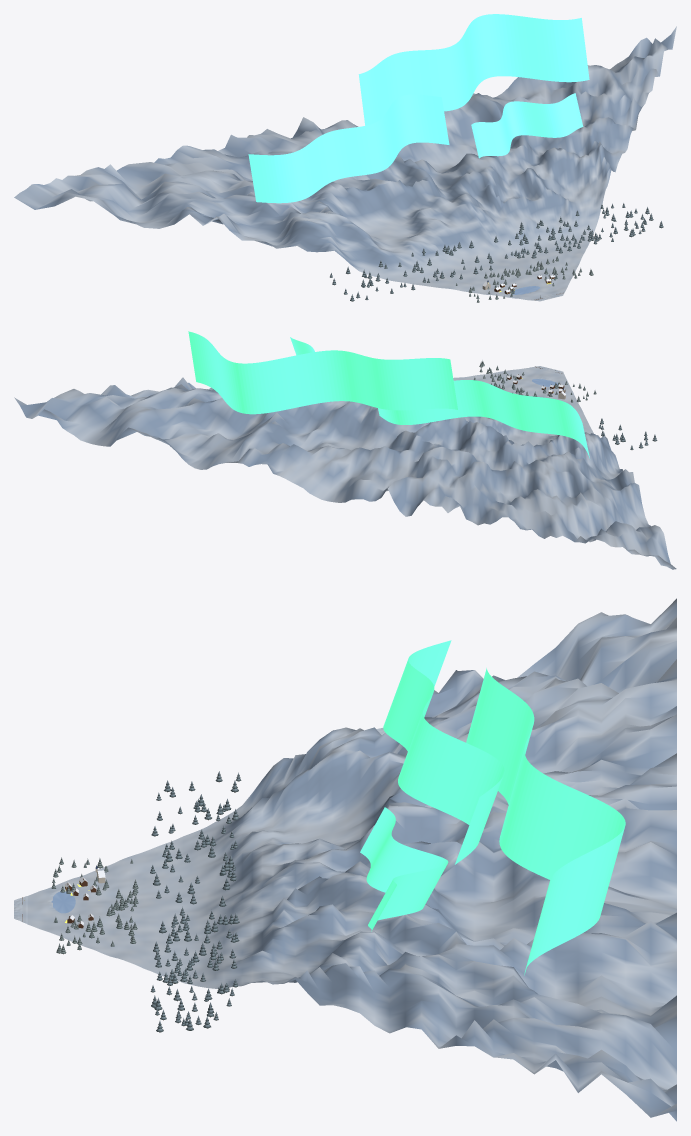
The model's file is backdrop_7.glb.
3 views of the same model, one above another, from view 1: azimuth 30°, elevation 25°; view 2: azimuth 150°, elevation 25°; view 3: azimuth 270°, elevation 25° (orthographic). The views are drawn at different scales.
Visible parts, largest first — view 1: mid_land, aurora, far_pines, mid_pines; view 2: mid_land, aurora, mid_pines; view 3: mid_land, aurora, far_pines, mid_pines.
Boxes of the visible parts, left/top/right/bottom form: mid_land: left=14, top=26, right=676, bottom=300; aurora: left=248, top=14, right=589, bottom=203; far_pines: left=330, top=203, right=663, bottom=301; mid_pines: left=456, top=256, right=593, bottom=302; mid_land: left=14, top=368, right=676, bottom=569; aurora: left=188, top=331, right=589, bottom=458; mid_pines: left=474, top=360, right=596, bottom=402; mid_land: left=27, top=598, right=676, bottom=1121; aurora: left=360, top=640, right=625, bottom=975; far_pines: left=150, top=771, right=241, bottom=1032; mid_pines: left=51, top=857, right=138, bottom=954.
Bounding box in the file's own units: 984 × 183 × 530.
